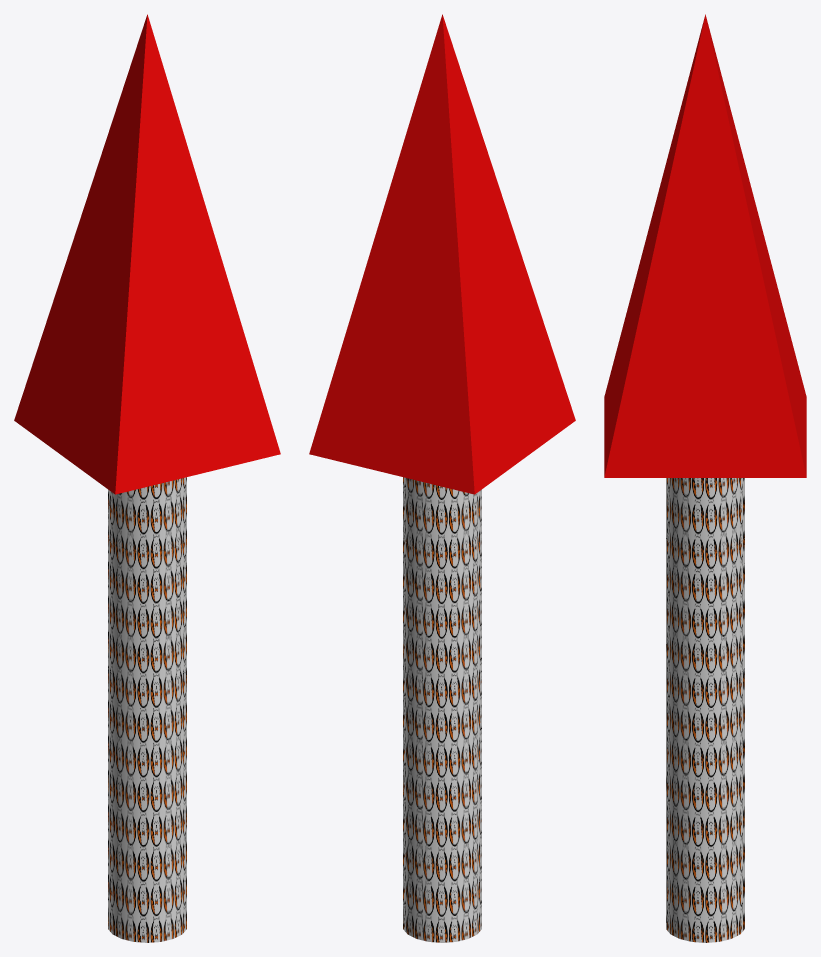
The model's file is symbolTreeRed.FBX.
3 renders of one model, left to right at view 1: azimuth 30°, elevation 25°; view 2: azimuth 150°, elevation 25°; view 3: azimuth 270°, elevation 25°, orthographic.
Parts seen in each view (by area): view 1: Pyramid001, Cylinder001; view 2: Pyramid001, Cylinder001; view 3: Pyramid001, Cylinder001.
Part boxes in pixels (bbox=[...]): Pyramid001: bbox=[14, 14, 280, 494]; Cylinder001: bbox=[108, 477, 186, 942]; Pyramid001: bbox=[309, 14, 575, 494]; Cylinder001: bbox=[403, 477, 481, 942]; Pyramid001: bbox=[604, 14, 806, 477]; Cylinder001: bbox=[666, 478, 744, 942].
Size of the model in its own units: 536 by 567 by 2819.
2 materials, 2 textured.
